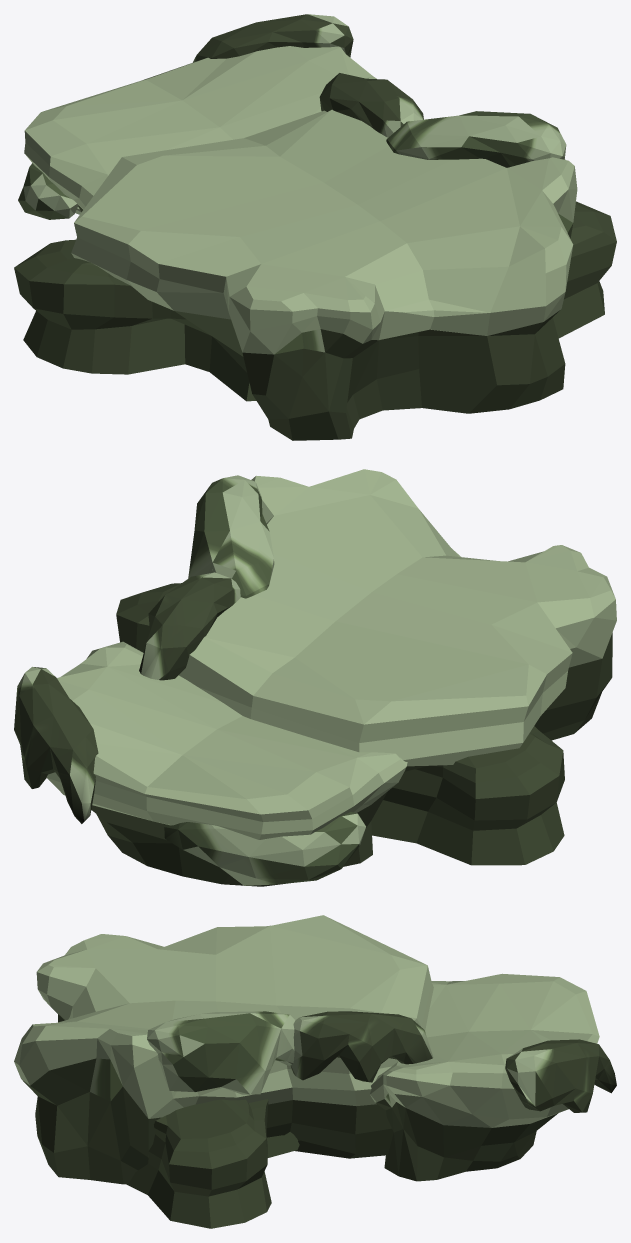
Rendered from EA_Swamp_Island_Small_05f.glb.
The picture shows the model from 3 angles, top to bottom: view 1: azimuth 30°, elevation 25°; view 2: azimuth 150°, elevation 25°; view 3: azimuth 270°, elevation 25°; orthographic projection. The views are drawn at different scales.
Visible parts, largest first — view 1: EA_Swamp_Island_Small_05f; view 2: EA_Swamp_Island_Small_05f; view 3: EA_Swamp_Island_Small_05f.
Boxes of the visible parts, box(x1,y1,x2,y2) form: EA_Swamp_Island_Small_05f: box(14, 14, 616, 440); EA_Swamp_Island_Small_05f: box(14, 469, 616, 886); EA_Swamp_Island_Small_05f: box(14, 915, 616, 1228).
Bounding box in the file's own units: 17.12 × 6.57 × 20.29.
Materials: 1 (1 with a texture image).
